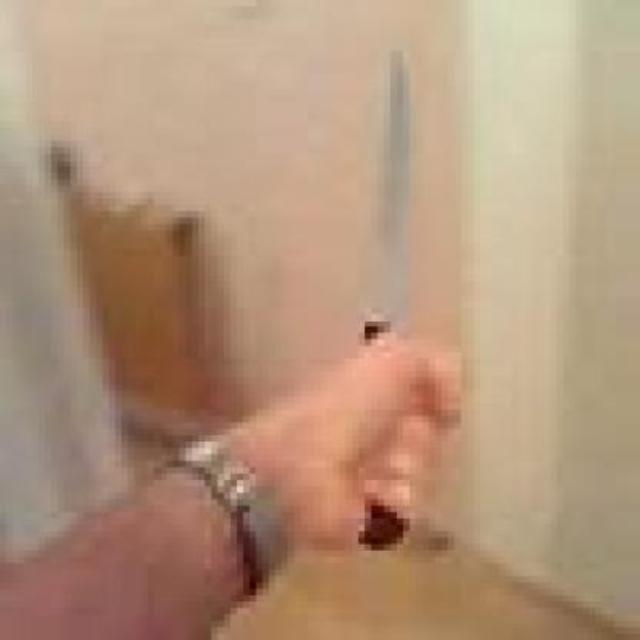Knife: (359, 52, 417, 554)
